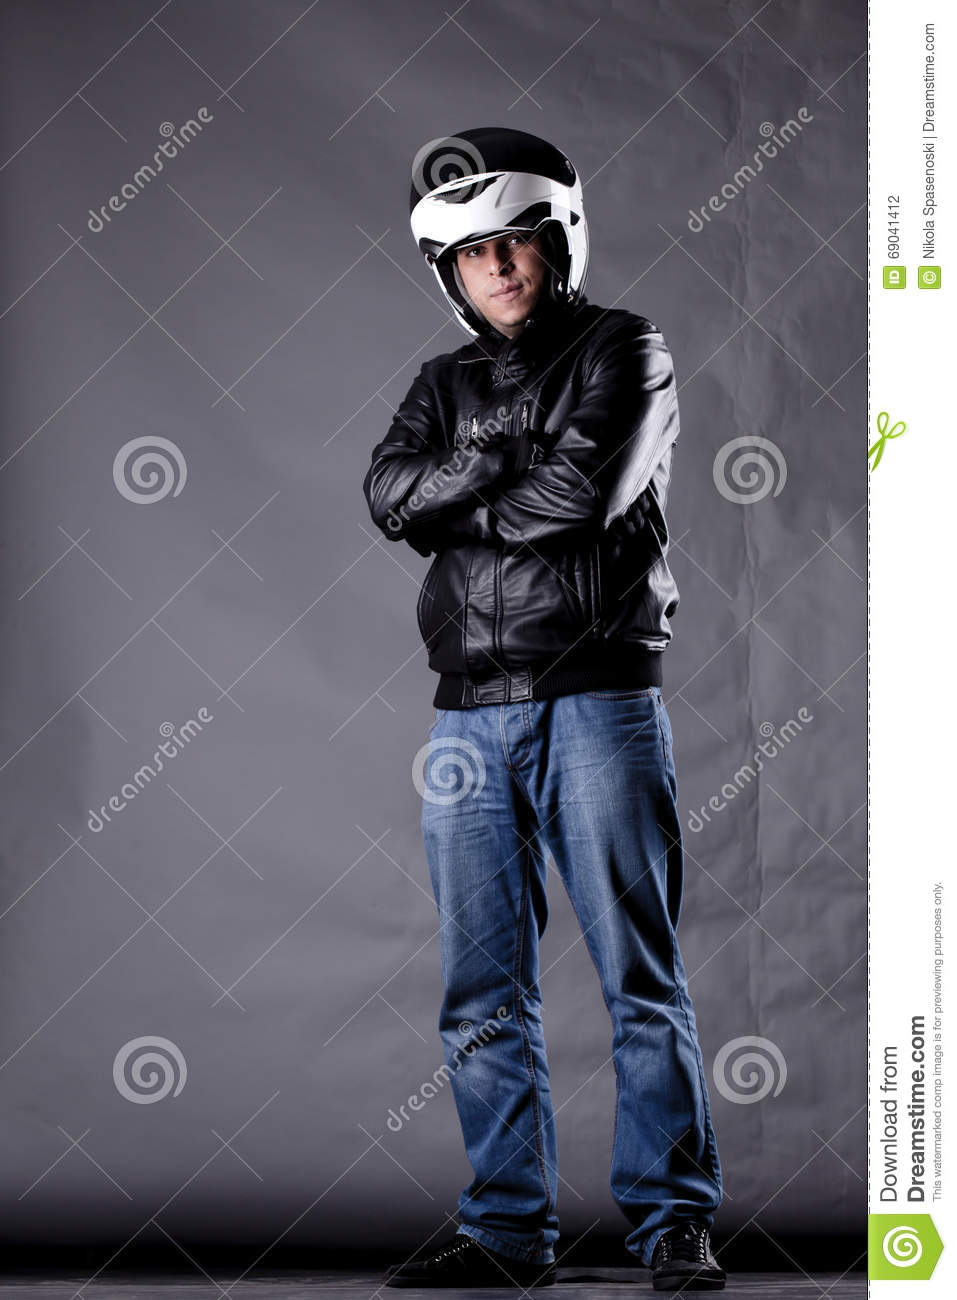helmet: (398, 133, 602, 281)
